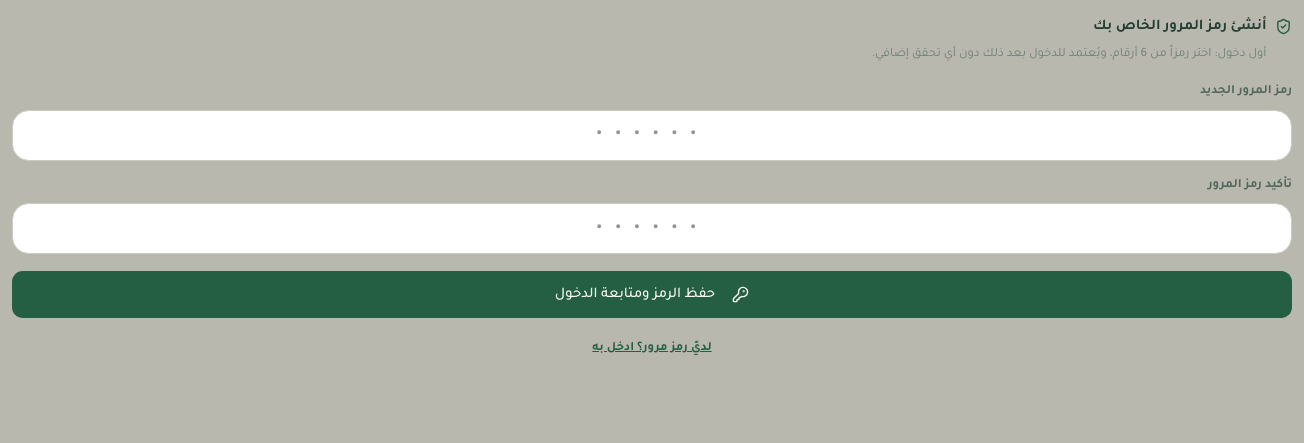
رمز المرور (6 أرقام) › يرفض رمزاً غير مكوّن من 6 أرقام
In the password field labelled "رمز المرور الجديد": (652, 135) [12, 110, 1292, 161], type "123"
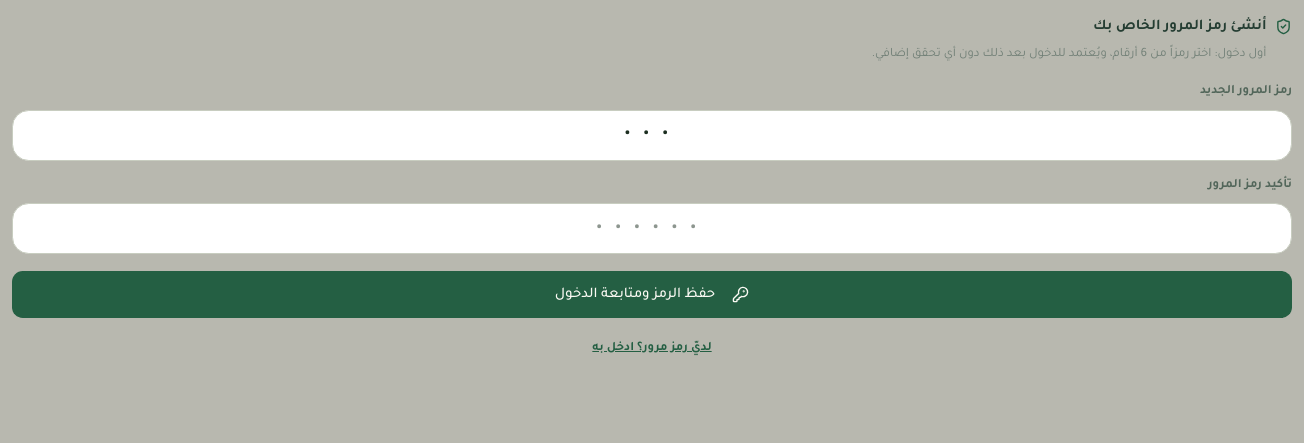
In the password field labelled "تأكيد رمز المرور": (652, 229) [12, 203, 1292, 254], type "123"
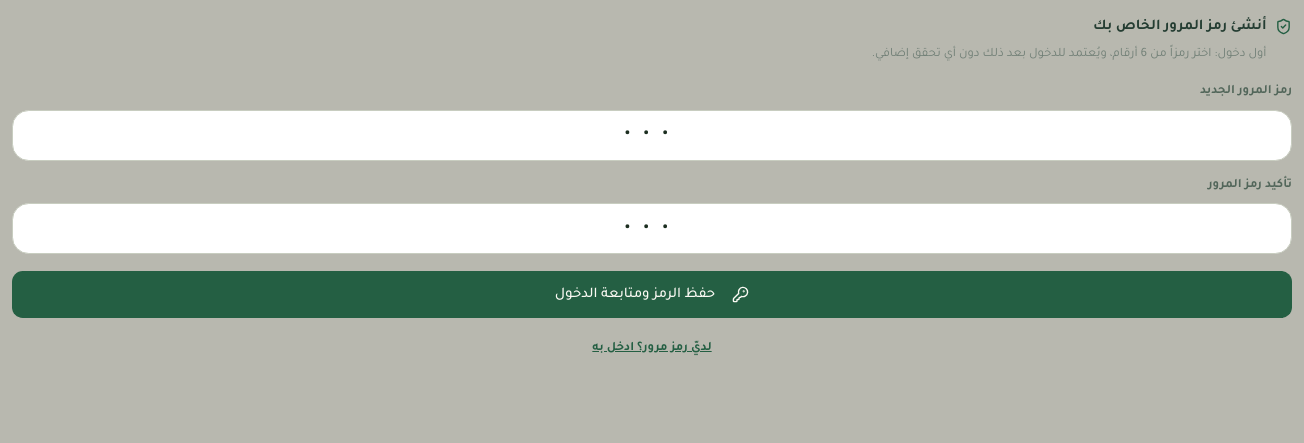
Click the button "حفظ الرمز ومتابعة الدخول": (652, 295) [12, 271, 1292, 318]
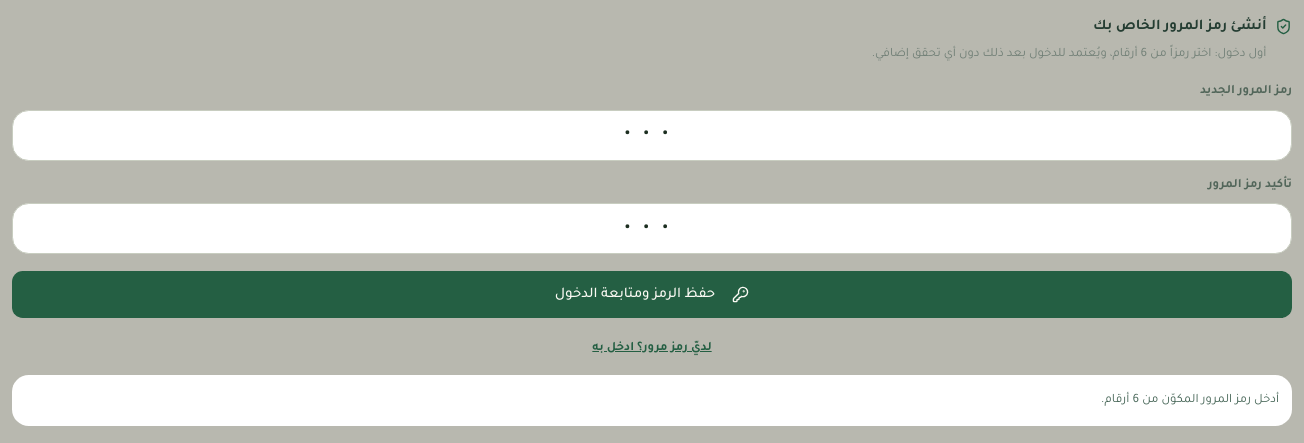
Check: the message shows "6 أرقام", box [1101, 394, 1279, 407]
